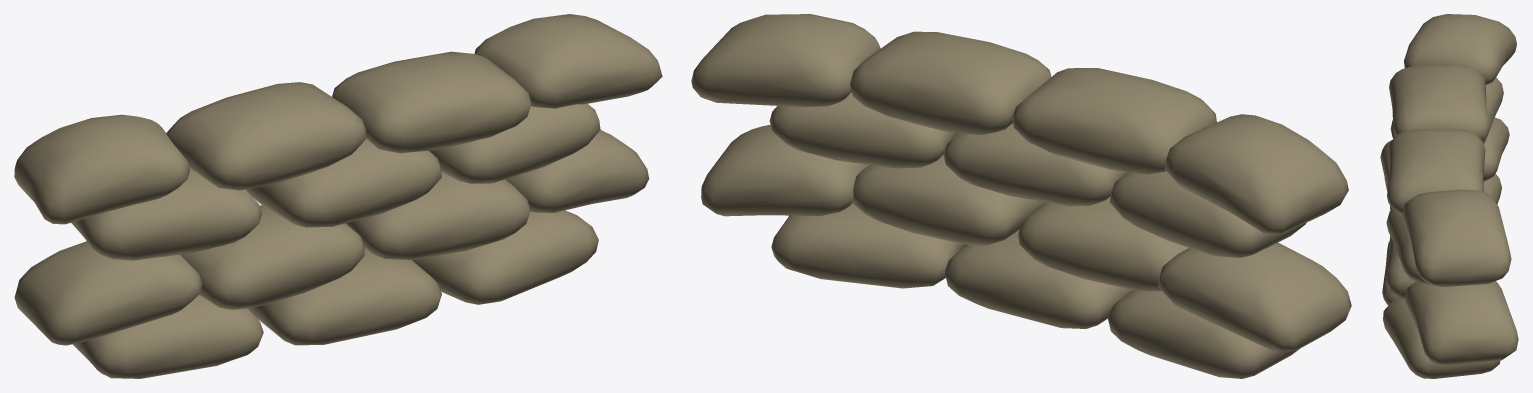
Rendered from sandbags_wall.glb.
The picture shows the model from 3 angles, left to right: view 1: azimuth 30°, elevation 25°; view 2: azimuth 150°, elevation 25°; view 3: azimuth 270°, elevation 25°; orthographic projection. The views are drawn at different scales.
Visible parts, largest first — view 1: SackTrench; view 2: SackTrench; view 3: SackTrench.
Part boxes in pixels (x1,y1,x2,y2): SackTrench: (14,14,662,378); SackTrench: (691,14,1351,378); SackTrench: (1380,14,1518,378).
Size of the model in its own units: 3.17 by 1.19 by 0.7796.
